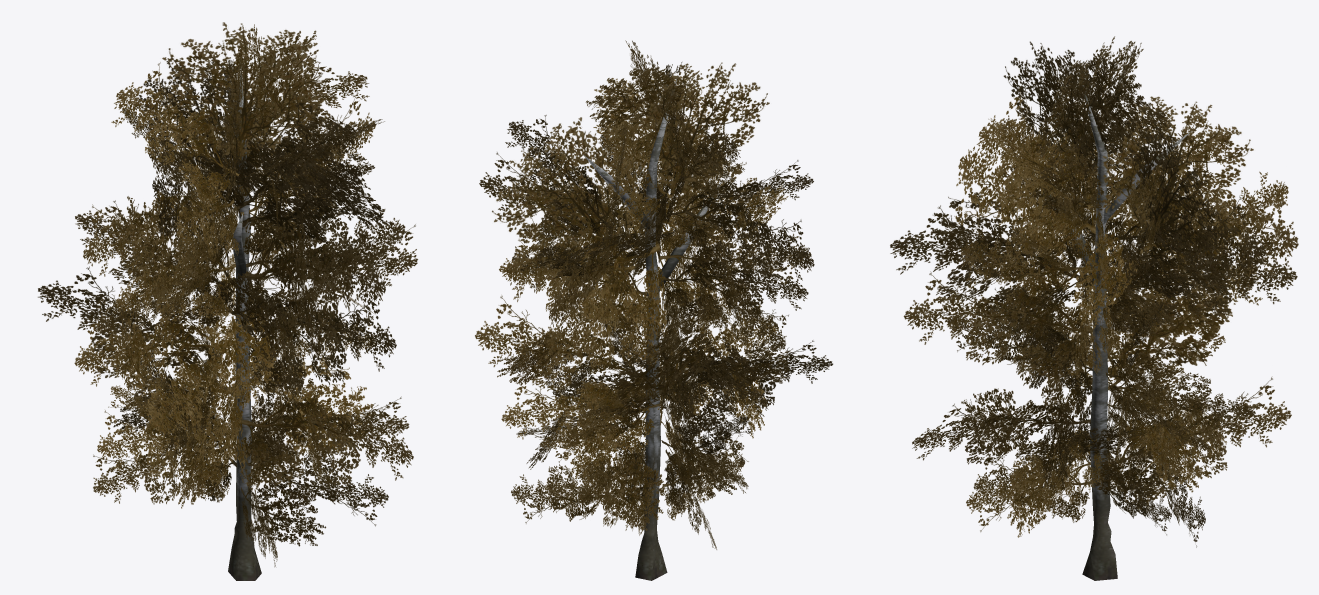
The model's file is tree11.glb.
3 views of the same model, side by side, from view 1: azimuth 30°, elevation 25°; view 2: azimuth 150°, elevation 25°; view 3: azimuth 270°, elevation 25° (orthographic). The views are drawn at different scales.
Visible parts, largest first — view 1: Tree_Branches_02_Tree_Branches_02_0, Tree_Trunk_02_Tree_Trunk_02_0; view 2: Tree_Branches_02_Tree_Branches_02_0, Tree_Trunk_02_Tree_Trunk_02_0; view 3: Tree_Branches_02_Tree_Branches_02_0, Tree_Trunk_02_Tree_Trunk_02_0.
Boxes of the visible parts, x1=… form: Tree_Branches_02_Tree_Branches_02_0: x1=38, y1=22, x2=417, y2=566; Tree_Trunk_02_Tree_Trunk_02_0: x1=221, y1=61, x2=261, y2=580; Tree_Branches_02_Tree_Branches_02_0: x1=475, y1=40, x2=833, y2=549; Tree_Trunk_02_Tree_Trunk_02_0: x1=583, y1=77, x2=721, y2=580; Tree_Branches_02_Tree_Branches_02_0: x1=890, y1=36, x2=1298, y2=547; Tree_Trunk_02_Tree_Trunk_02_0: x1=1042, y1=68, x2=1192, y2=580.
Size of the model in its own units: 6.62 by 10.4 by 7.66.
Materials: 2 (2 with a texture image).
